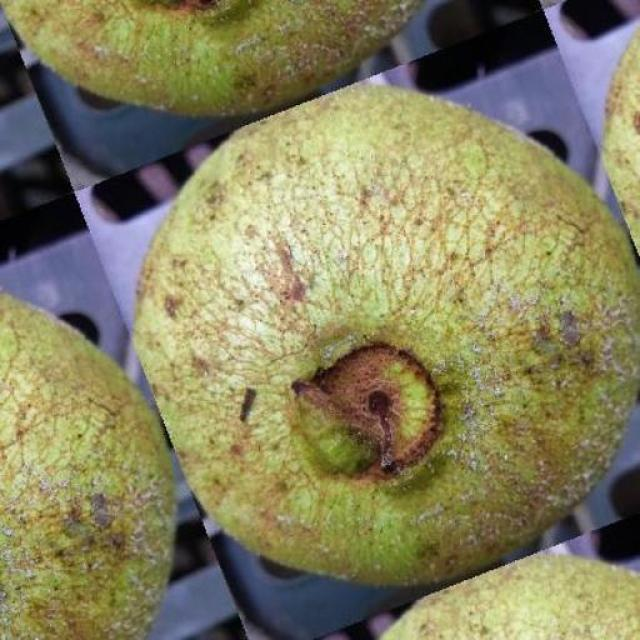Scab: (135, 85, 640, 584), (0, 294, 174, 639), (382, 555, 640, 639)
